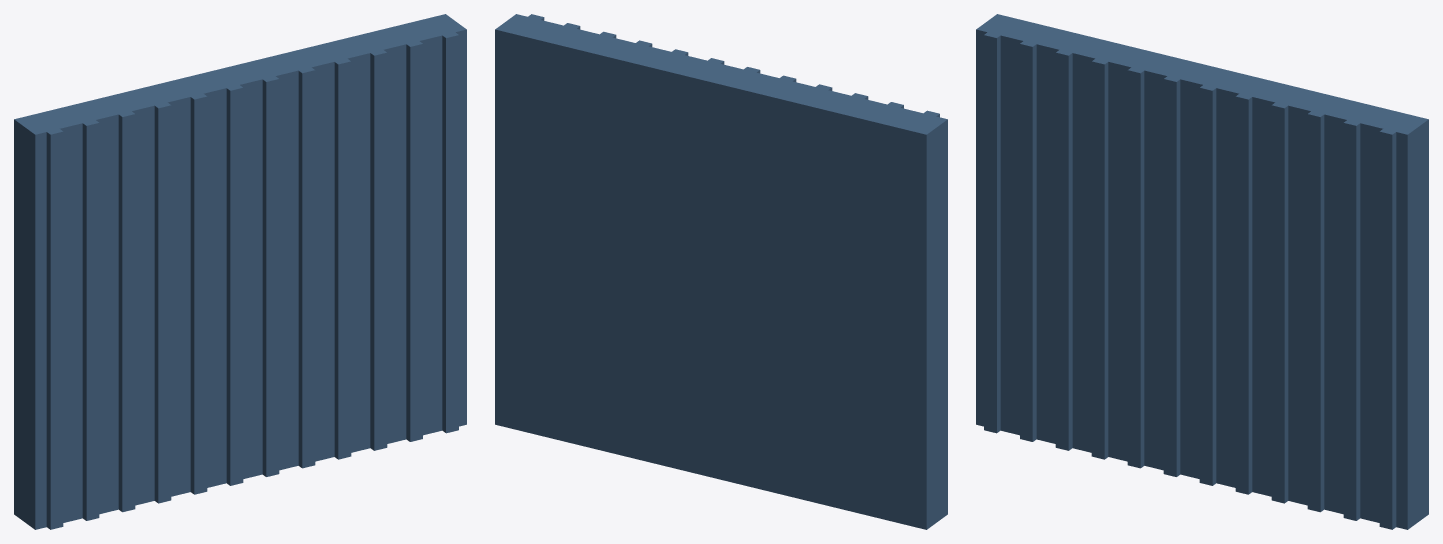
File: cw_wall_b.glb
3 views of the same model, side by side, from view 1: azimuth 30°, elevation 25°; view 2: azimuth 150°, elevation 25°; view 3: azimuth 330°, elevation 25° (orthographic).
Visible parts, largest first — view 1: city_cw_wall_b; view 2: city_cw_wall_b; view 3: city_cw_wall_b.
Part boxes in pixels (bbox=[...]): city_cw_wall_b: bbox=[14, 14, 466, 529]; city_cw_wall_b: bbox=[495, 14, 947, 529]; city_cw_wall_b: bbox=[976, 14, 1428, 529].
Size of the model in its own units: 4 by 3.5 by 0.4.
Materials: 1 (1 with a texture image).
